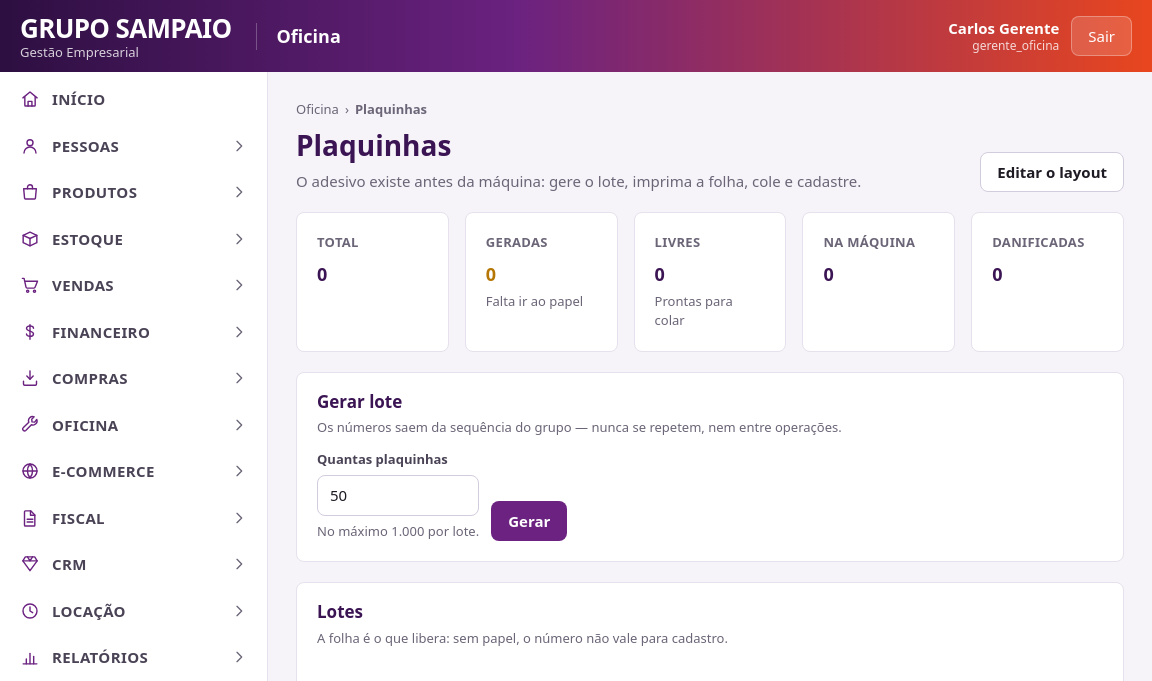
o ciclo do adesivo, na tela › gera o lote e as plaquinhas aparecem à espera de papel
The width and height of the screenshot is (1152, 681).
Expected: the heading "Gerar lote" is shown, [317,390,402,412]
Replace the text in the number field labelled "Quantas plaquinhas" with "3": (398, 495) [317,475,479,516]
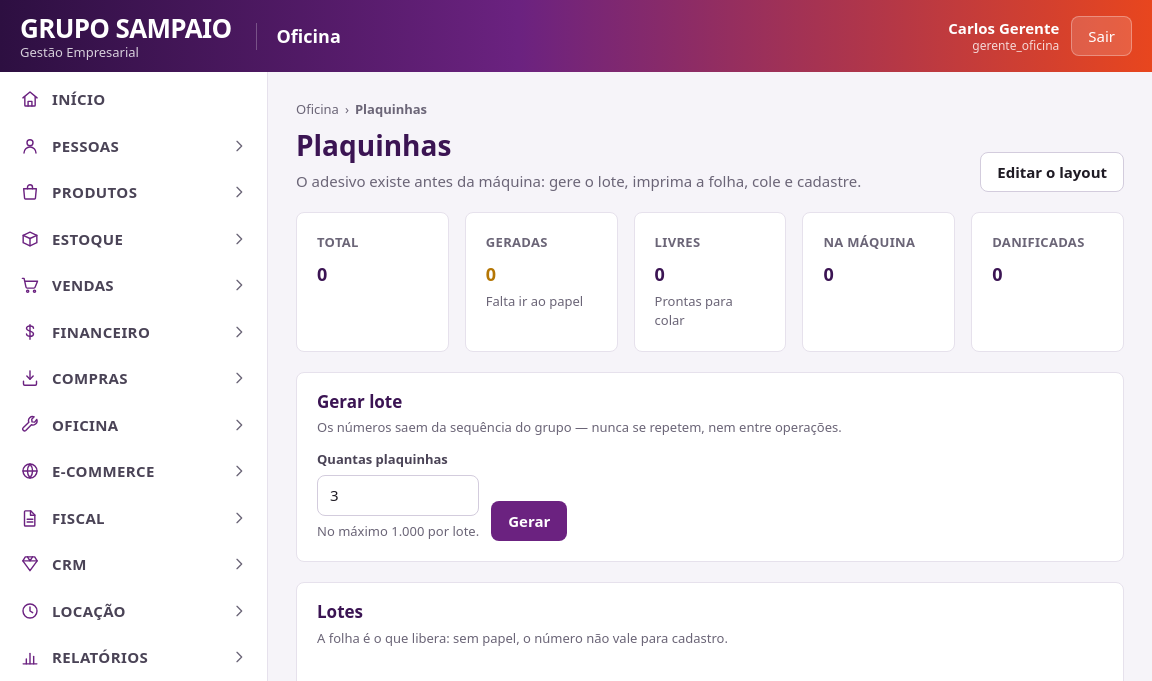
Click the button "Gerar": (529, 521) [491,500,567,541]
(page scrolled)
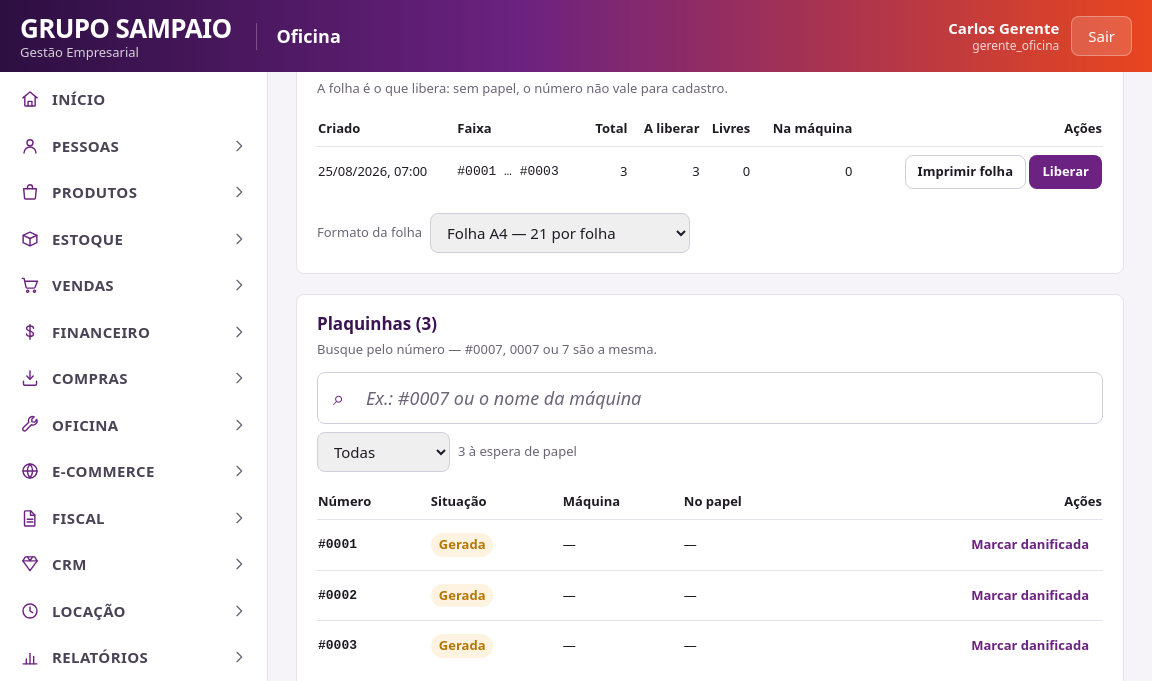
Now the text "#0001" is shown, box [317,520,430,570]
Now the text "Gerada" is shown 3 times, box [431,533,494,556]; [431,584,494,607]; [431,634,494,658]
